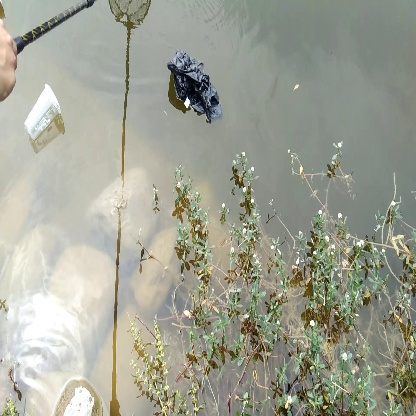bottle: (22, 84, 66, 147)
plastic-bag: (166, 49, 226, 123)
